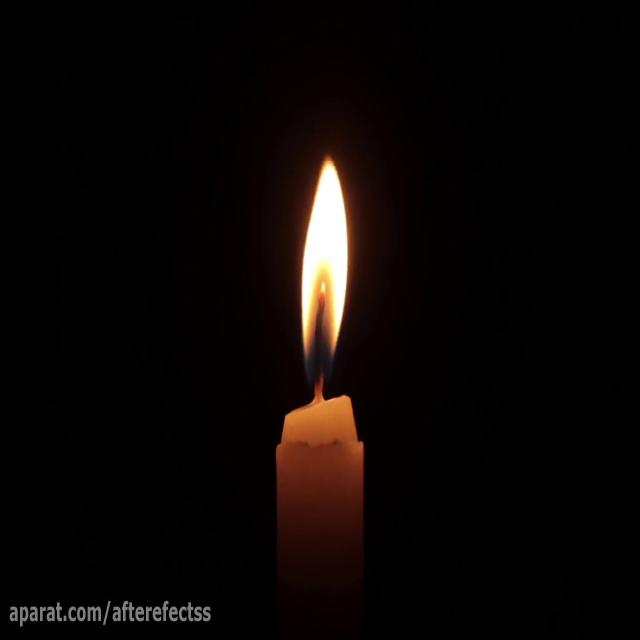fire: (290, 165, 353, 369)
